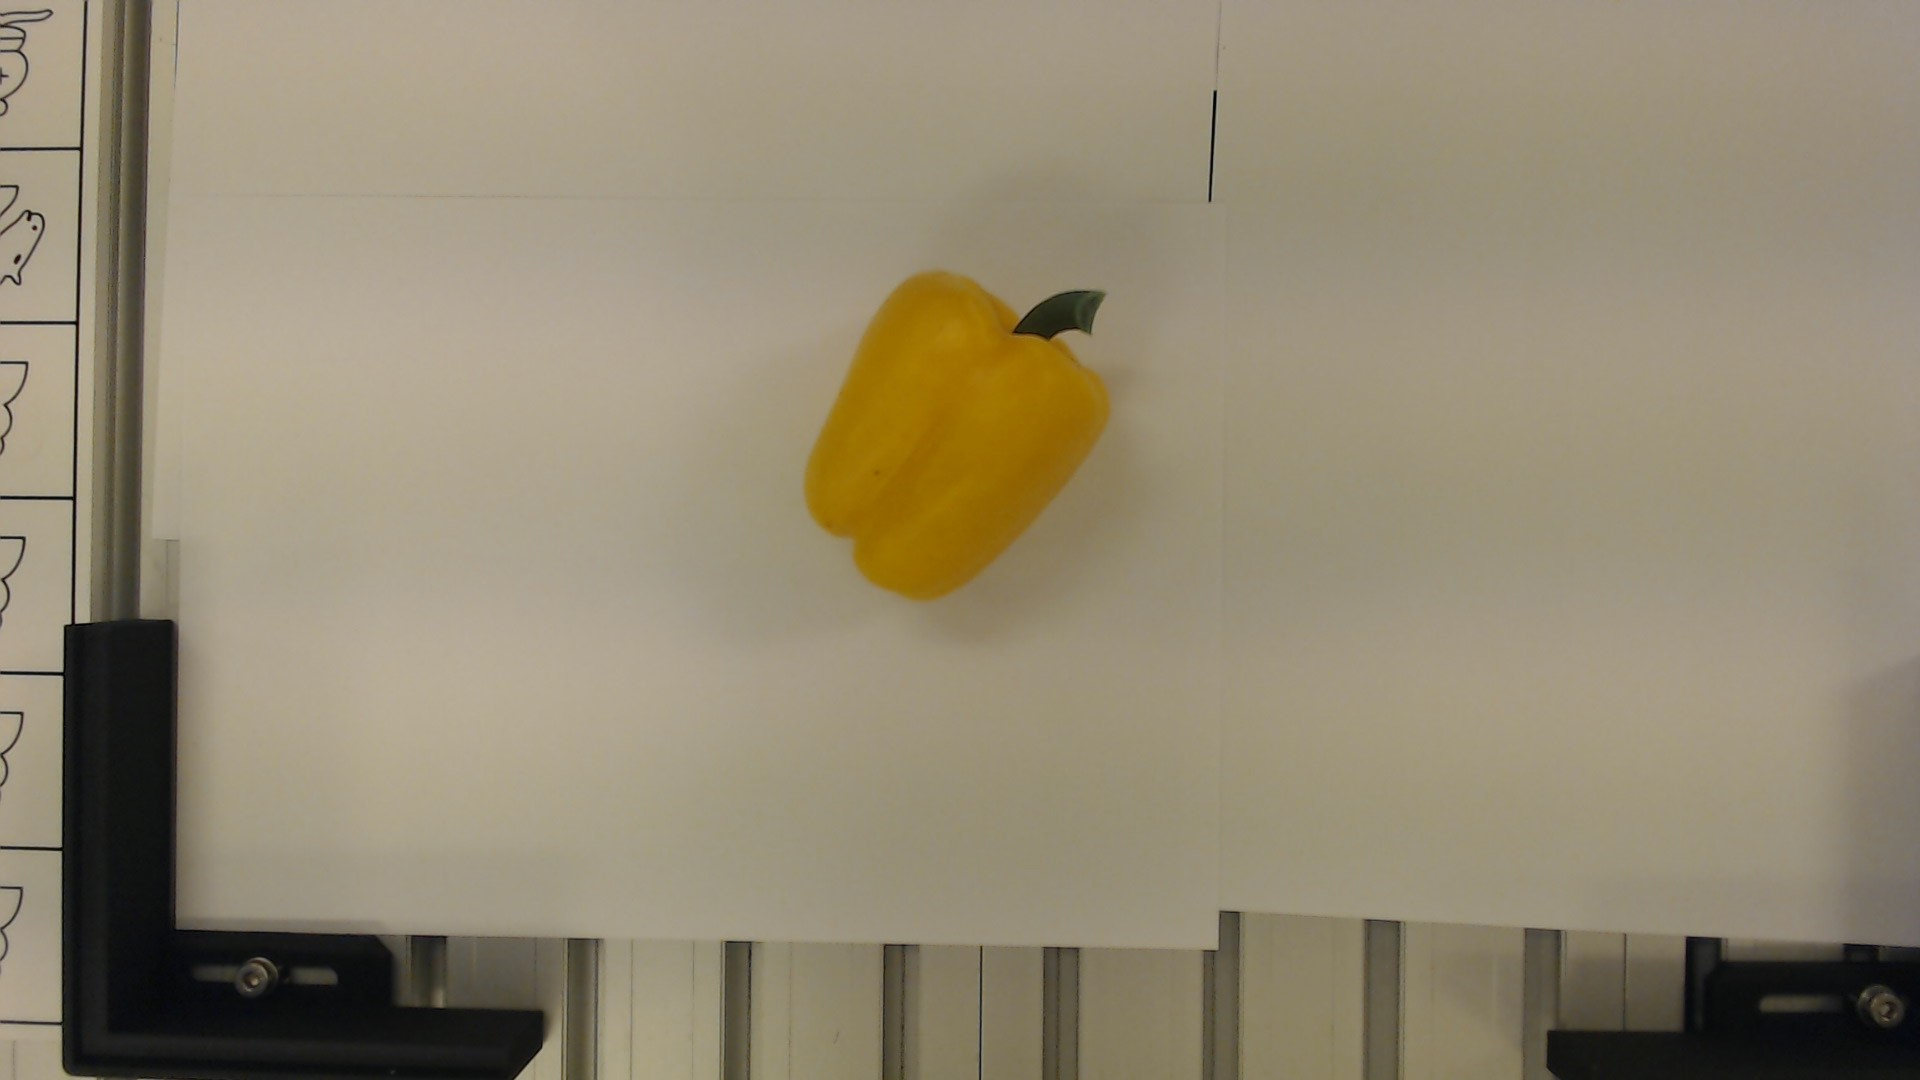Yellow Bell Pepper: (787, 264, 1117, 603)
